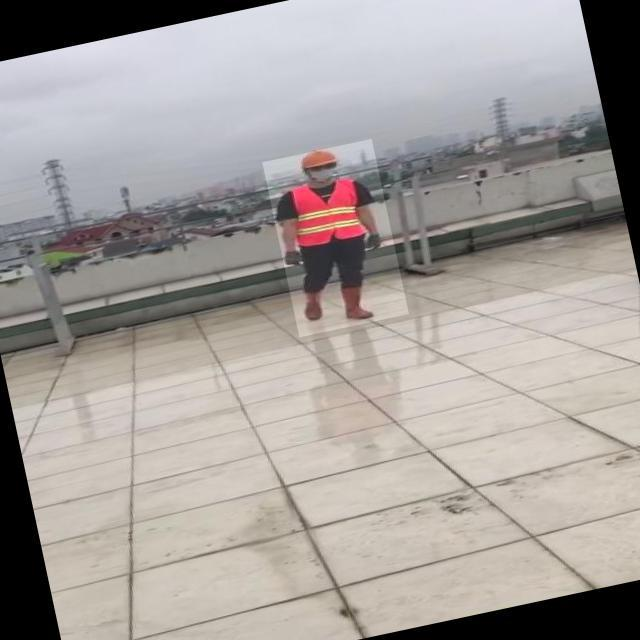Gloves: (282, 247, 307, 268), (360, 232, 383, 254)
Helmet: (295, 143, 340, 170)
Human: (262, 139, 409, 337)
Safety Boot: (339, 280, 378, 323), (296, 288, 325, 322)
Safety Vest: (286, 174, 369, 248)
